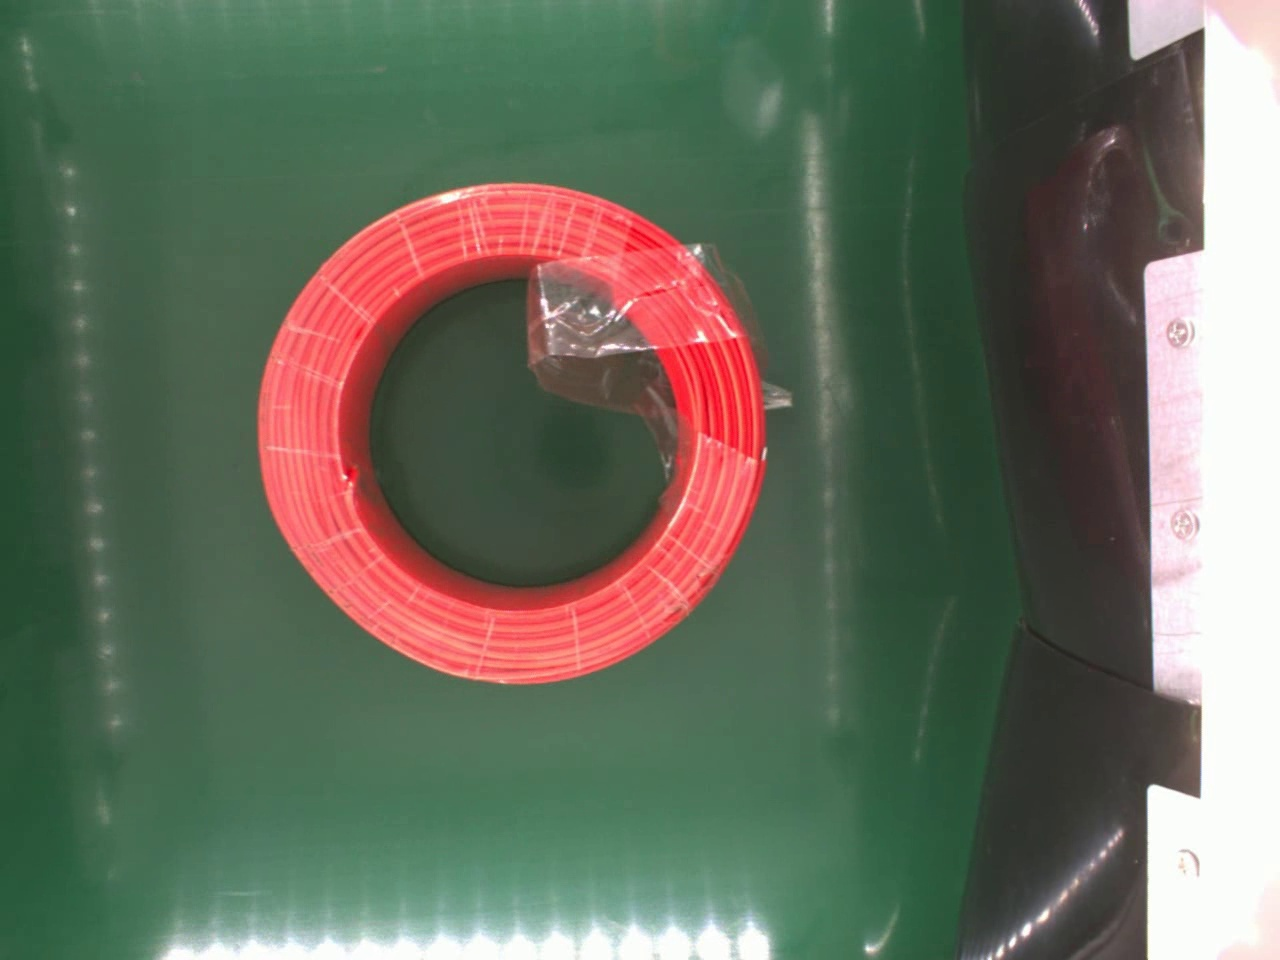red: (258, 179, 766, 682)
